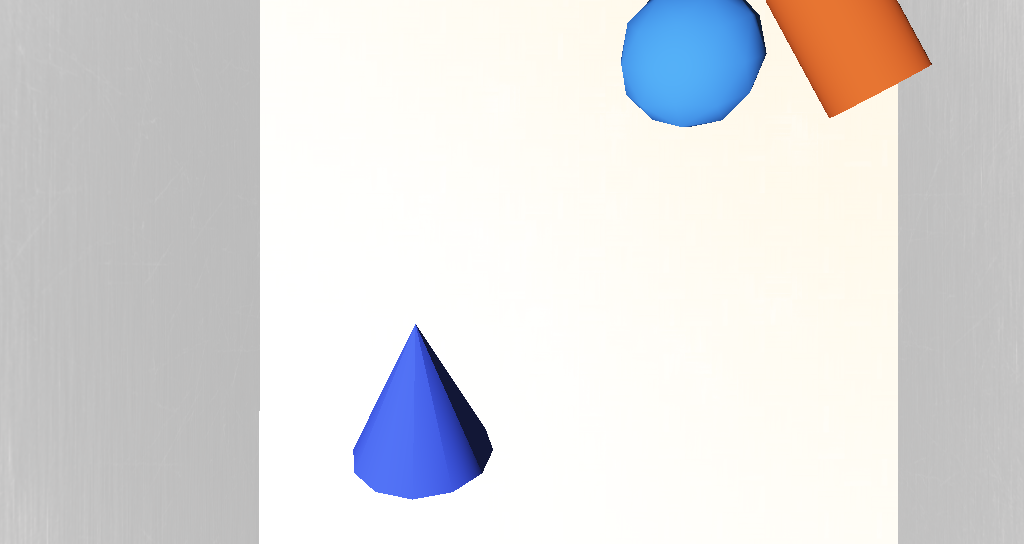cone: (586, 160, 667, 222)
cylinder: (397, 279, 465, 341)
sphere: (519, 177, 586, 224)
